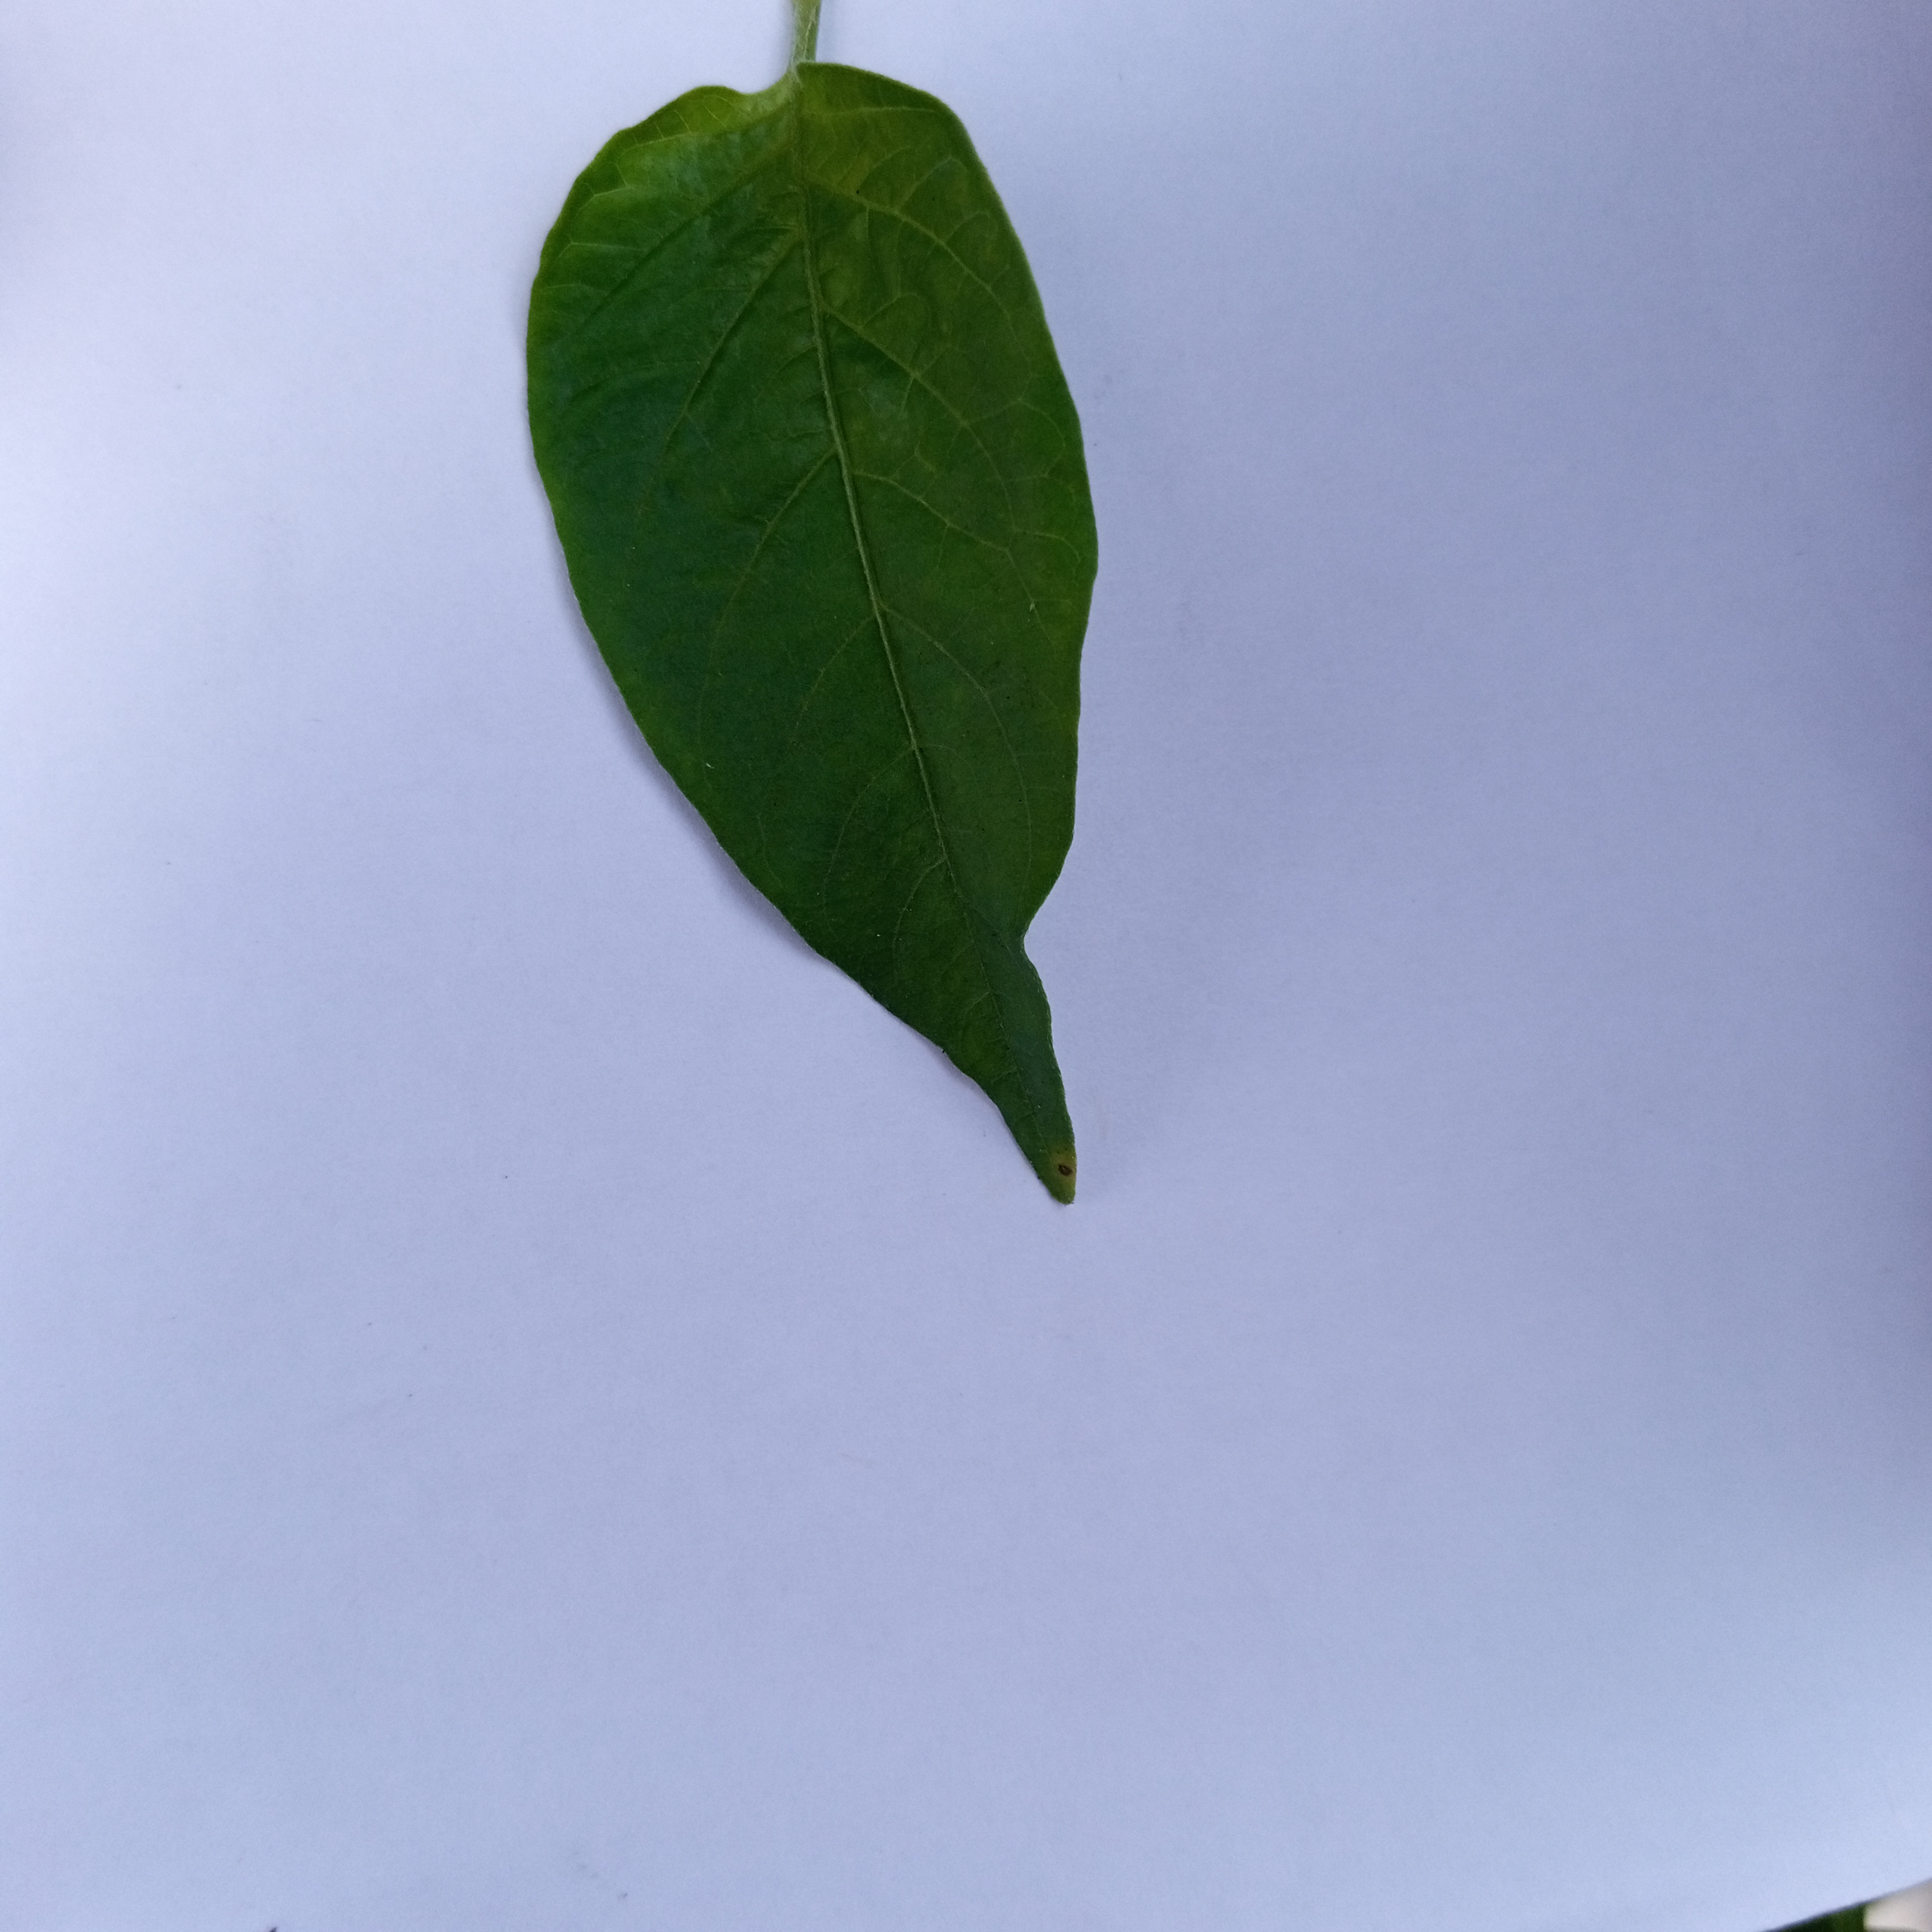Leaf: (464, 30, 1307, 1230)
